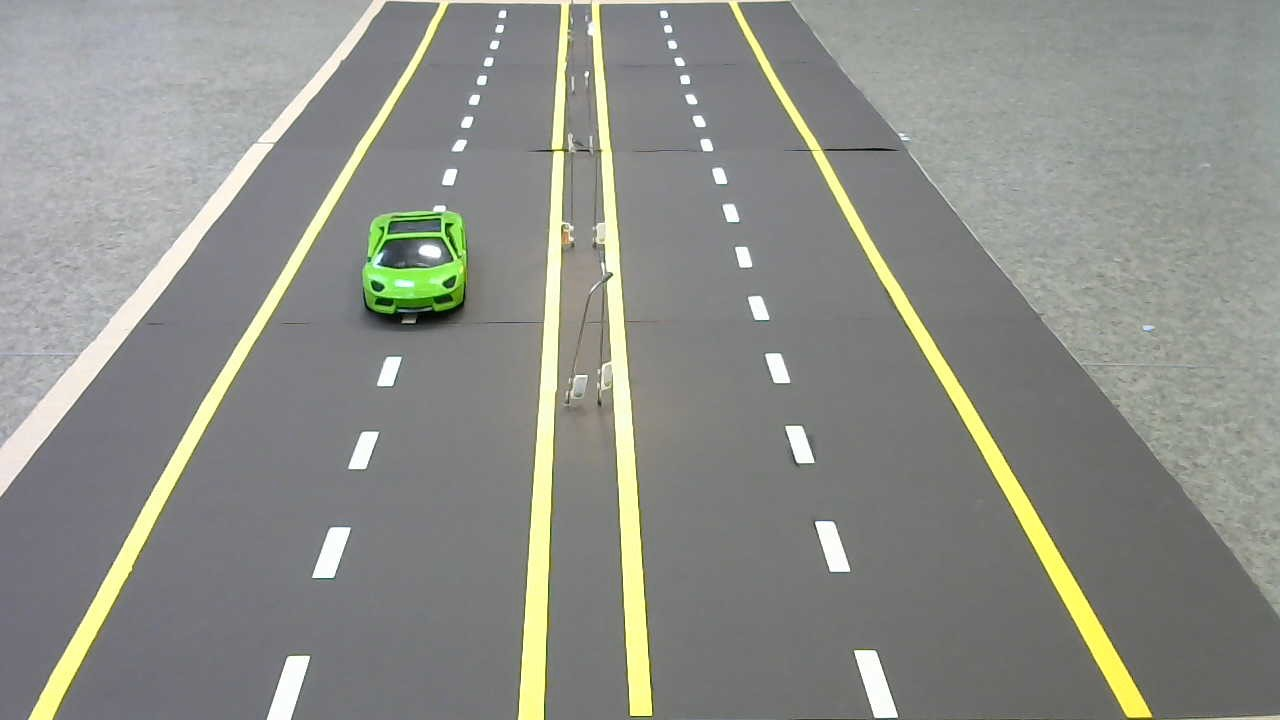front_car: (354, 209, 477, 321)
